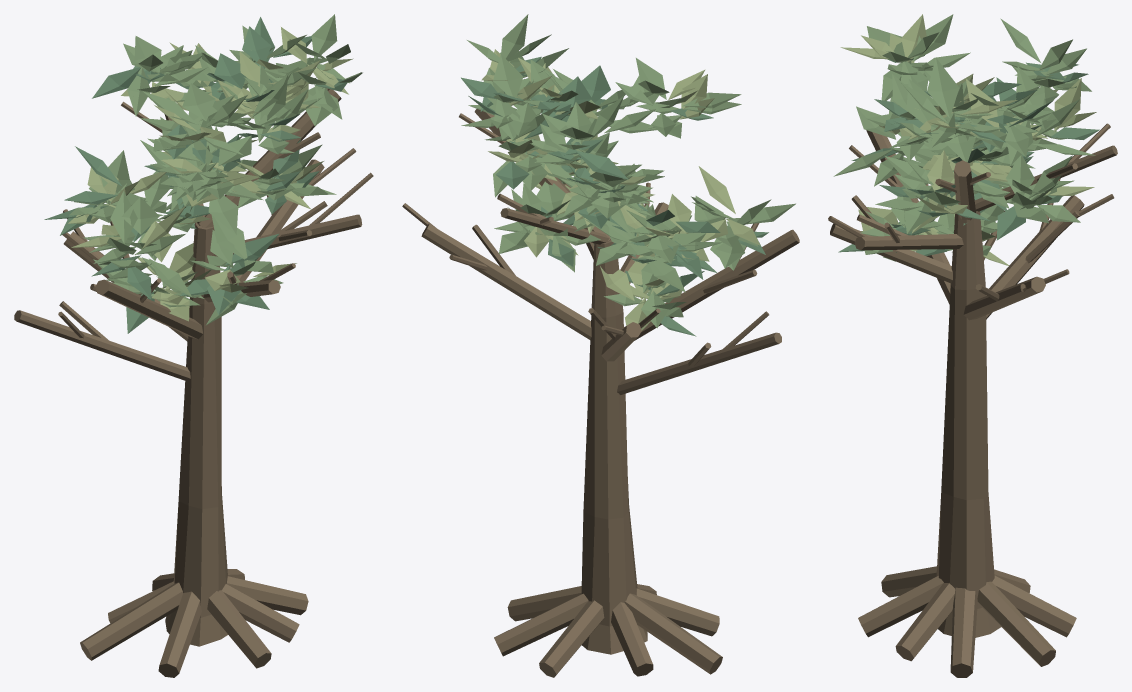
Rendered from marsh_tree.glb.
The picture shows the model from 3 angles, left to right: view 1: azimuth 30°, elevation 25°; view 2: azimuth 150°, elevation 25°; view 3: azimuth 270°, elevation 25°; orthographic projection. The views are drawn at different scales.
Parts seen in each view (by area): view 1: marsh_tree LOD0; view 2: marsh_tree LOD0; view 3: marsh_tree LOD0.
Part boxes in pixels (<box>): marsh_tree LOD0: <box>14,14,373,677</box>; marsh_tree LOD0: <box>402,14,799,677</box>; marsh_tree LOD0: <box>828,14,1117,677</box>.
Size of what is drawn, in the model's own units: 5.27 by 8.22 by 3.54.
